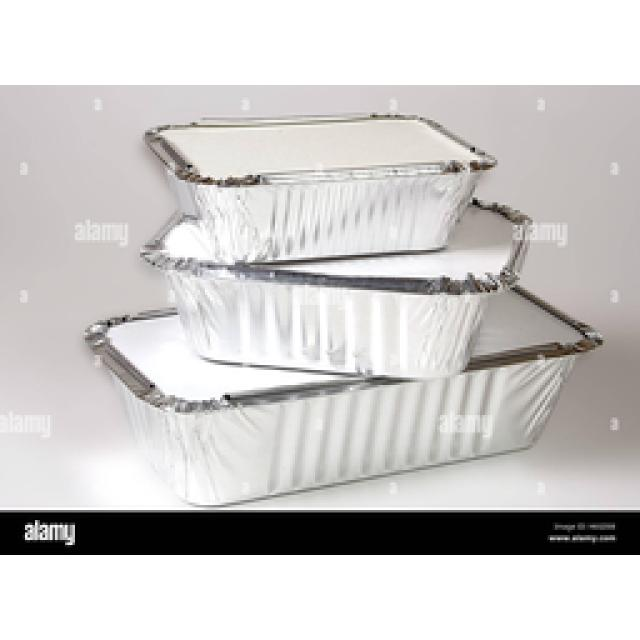alumunium: (85, 115, 600, 502)
